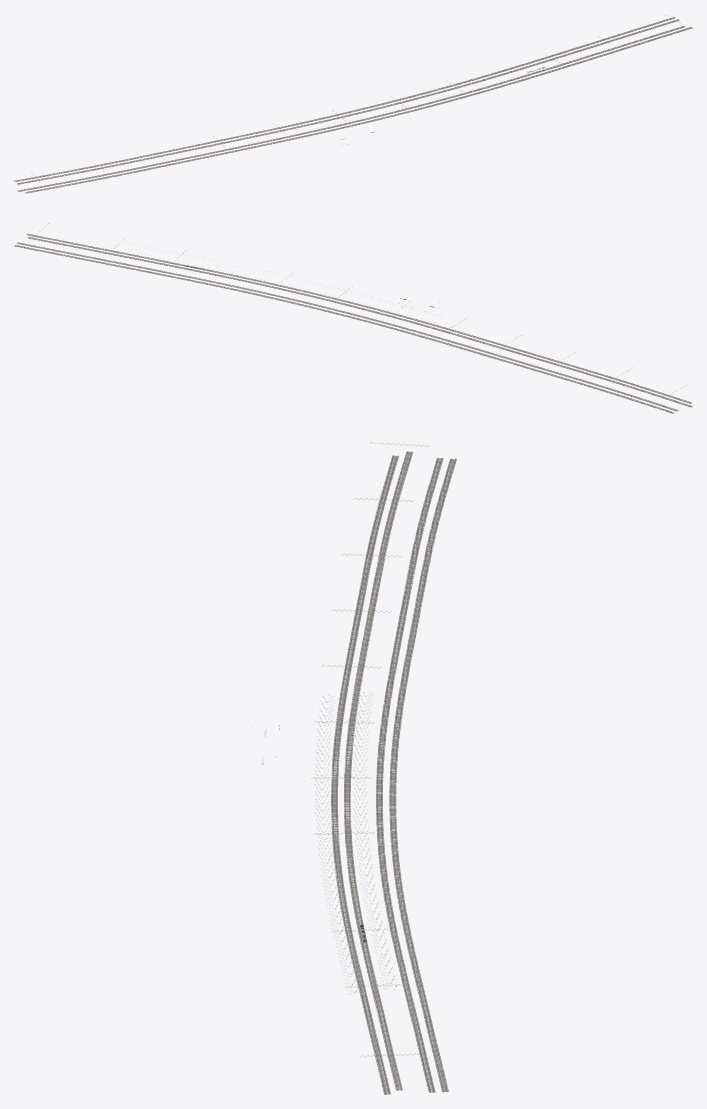
The picture shows the model from 3 angles, top to bottom: view 1: azimuth 30°, elevation 25°; view 2: azimuth 150°, elevation 25°; view 3: azimuth 270°, elevation 25°; orthographic projection. The views are drawn at different scales.
Visible parts, largest first — view 1: 東正線 混凝土枕木, 西正線 混凝土枕木, 既有東線_示意 混凝土枕木, 既有西線_示意 混凝土枕木, 西正線 60E1 W1月台側, 西正線 60E1 W2另一側, 東正線 左鋼軌, 既有東線_示意 左鋼軌, 既有東線_示意 右鋼軌, 東正線 右鋼軌, 既有西線_示意 左鋼軌, 既有西線_示意 右鋼軌; view 2: 西正線 混凝土枕木, 既有東線_示意 混凝土枕木, 既有西線_示意 混凝土枕木, 東正線 混凝土枕木, 西正線 60E1 W2另一側, 西正線 60E1 W1月台側, 既有東線_示意 左鋼軌, 既有西線_示意 右鋼軌, 既有西線_示意 左鋼軌, 既有東線_示意 右鋼軌, 東正線 左鋼軌, 東正線 右鋼軌; view 3: 東正線 混凝土枕木, 西正線 混凝土枕木, 既有西線_示意 混凝土枕木, 既有東線_示意 混凝土枕木, 2雨棚立縫.001, 1雨棚立縫.
Boxes of the visible parts, bbox=[...] form: 東正線 混凝土枕木: bbox=[25, 27, 692, 193]; 西正線 混凝土枕木: bbox=[18, 26, 684, 191]; 既有東線_示意 混凝土枕木: bbox=[17, 19, 679, 184]; 既有西線_示意 混凝土枕木: bbox=[14, 17, 675, 181]; 西正線 60E1 W1月台側: bbox=[18, 26, 683, 190]; 西正線 60E1 W2另一側: bbox=[18, 26, 685, 191]; 東正線 左鋼軌: bbox=[27, 27, 692, 192]; 既有東線_示意 左鋼軌: bbox=[17, 19, 678, 183]; 既有東線_示意 右鋼軌: bbox=[17, 20, 679, 184]; 東正線 右鋼軌: bbox=[25, 27, 691, 192]; 既有西線_示意 左鋼軌: bbox=[14, 17, 674, 180]; 既有西線_示意 右鋼軌: bbox=[16, 17, 675, 181]; 西正線 混凝土枕木: bbox=[28, 237, 692, 407]; 既有東線_示意 混凝土枕木: bbox=[17, 243, 677, 411]; 既有西線_示意 混凝土枕木: bbox=[15, 245, 674, 413]; 東正線 混凝土枕木: bbox=[27, 234, 691, 403]; 西正線 60E1 W2另一側: bbox=[28, 237, 692, 406]; 西正線 60E1 W1月台側: bbox=[27, 237, 690, 406]; 既有東線_示意 左鋼軌: bbox=[17, 243, 676, 410]; 既有西線_示意 右鋼軌: bbox=[15, 245, 673, 412]; 既有西線_示意 左鋼軌: bbox=[14, 245, 672, 413]; 既有東線_示意 右鋼軌: bbox=[18, 242, 678, 410]; 東正線 左鋼軌: bbox=[27, 233, 691, 402]; 東正線 右鋼軌: bbox=[26, 234, 690, 403]; 東正線 混凝土枕木: bbox=[331, 455, 398, 1094]; 西正線 混凝土枕木: bbox=[344, 451, 413, 1090]; 既有西線_示意 混凝土枕木: bbox=[389, 458, 456, 1092]; 既有東線_示意 混凝土枕木: bbox=[376, 458, 443, 1092]; 2雨棚立縫.001: bbox=[353, 692, 397, 989]; 1雨棚立縫: bbox=[315, 695, 361, 994].
Bounding box in the file's own units: 462 × 10.96 × 61.8.
